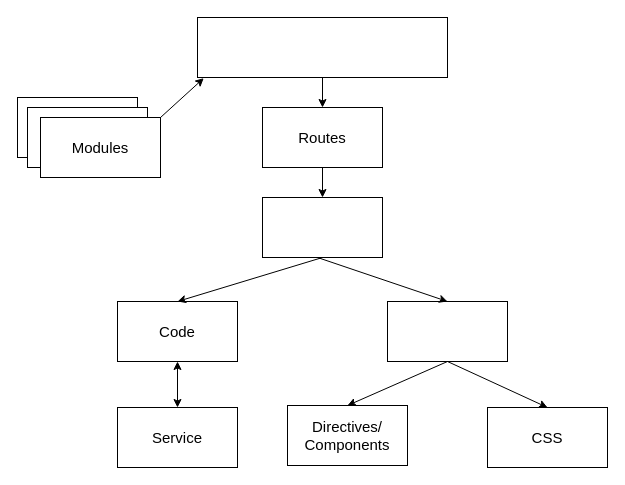
The diagram is 625 pixels wide and 485 high, and some of its shapes have lost their labels. Here are the shapes that lost their labels. From the top down, the centre of each, then its label:
At pixel 322 47: "App Module - @NgModule".
At pixel 322 227: "Component".
At pixel 447 331: "HTML Template".
